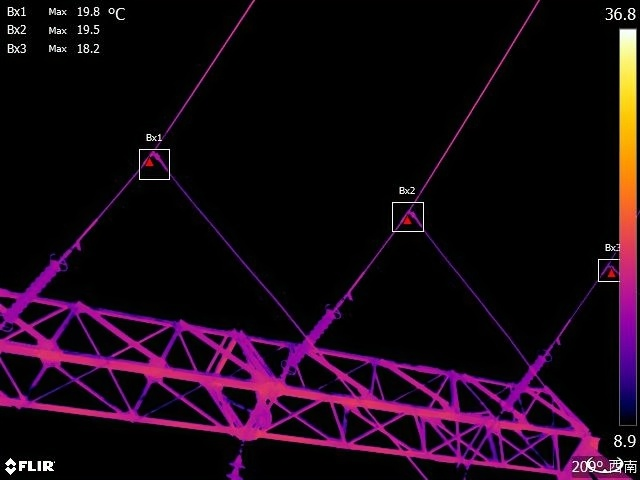clamp: (601, 255, 618, 279), (399, 204, 420, 223), (150, 146, 162, 160)
insulator: (1, 245, 71, 334), (279, 298, 346, 378), (496, 339, 559, 416)
